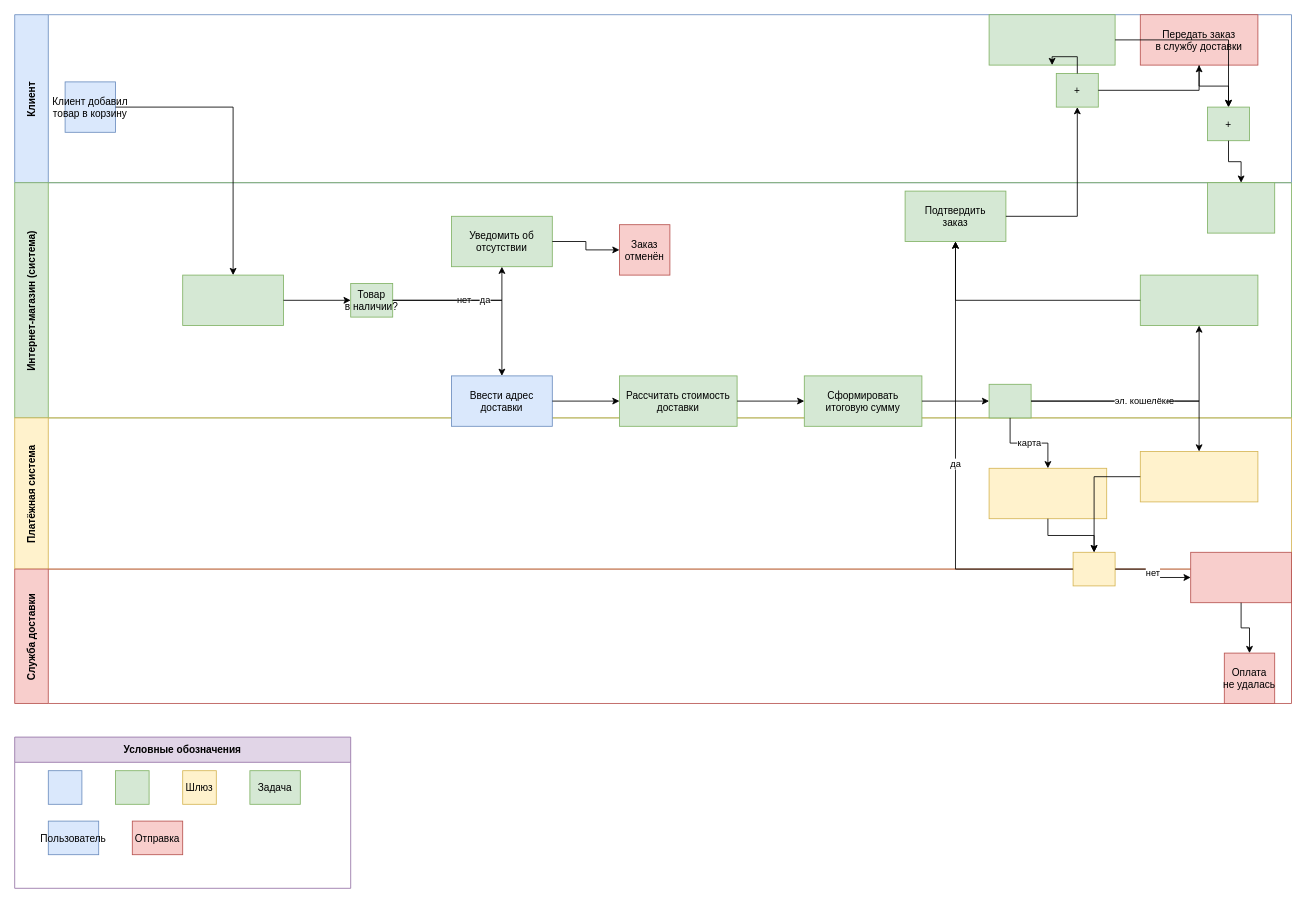
The diagram is 1306 pixels wide and 903 high, and some of its shapes have lost their labels. Each missing label, with the centre of its shape:
Заказ успешно оформлен: the point at 1241,207
Конец: the point at 132,787
Наличные при получении: the point at 1198,300
Оплата картой (платёжный шлюз): the point at 1047,493
Оплата успешна?: the point at 1093,568
Отправить уведомление (email/push): the point at 1051,39
Проверить наличие товара: the point at 233,300
Способ оплаты?: the point at 1009,400
Старт: the point at 64,787
Уведомить об ошибке оплаты: the point at 1241,577
Электронный кошелёк: the point at 1198,476
